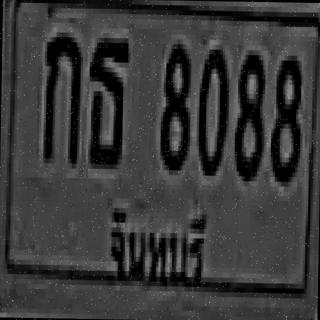A01: (42, 27, 81, 167)
A24: (85, 33, 130, 168)
N00: (195, 44, 230, 178)
N08: (232, 45, 267, 183), (158, 39, 192, 173), (269, 50, 302, 184)
P10: (103, 194, 212, 298)
